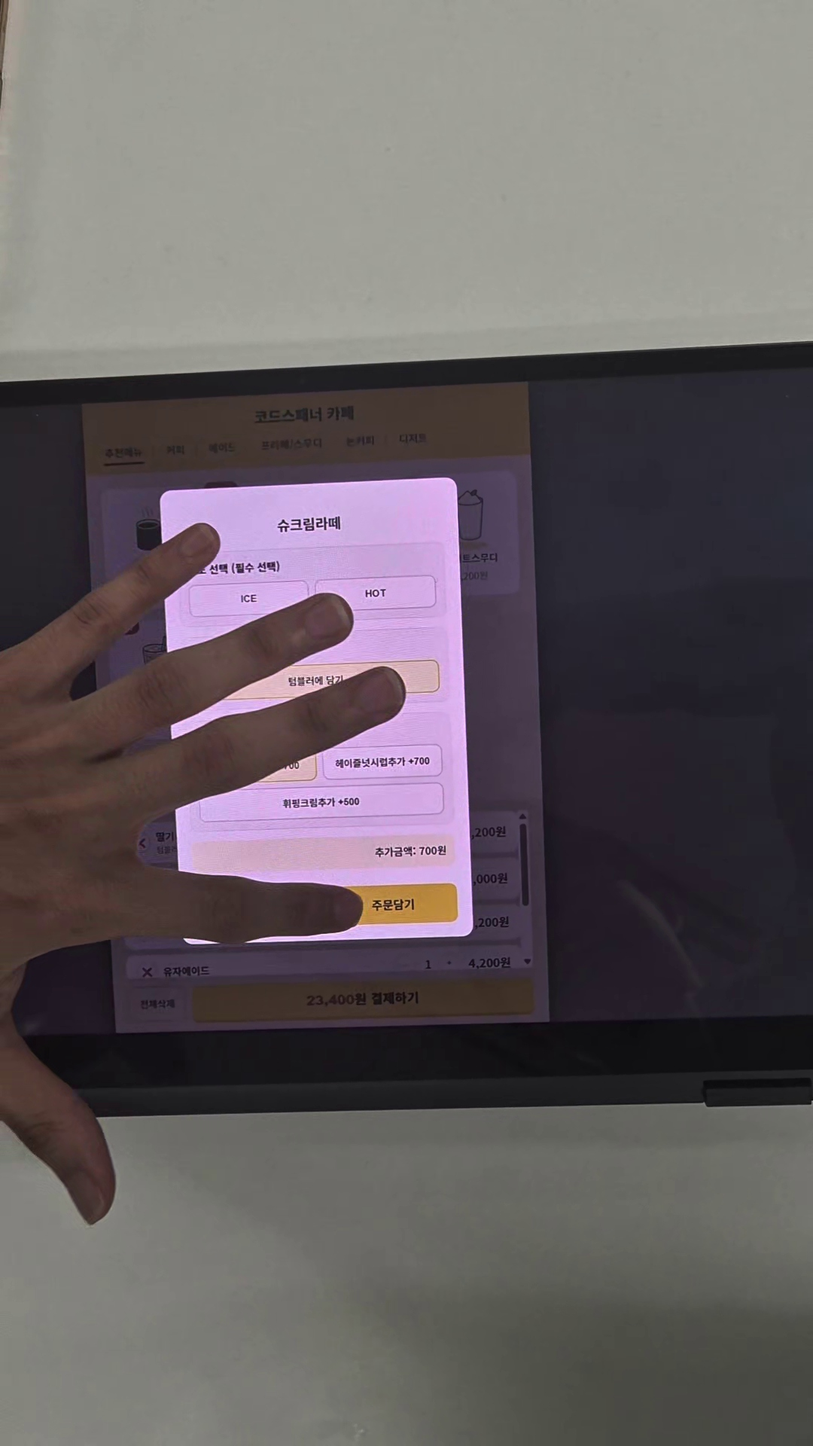action_button: (341, 884, 457, 927)
option_button: (197, 660, 440, 706), (199, 781, 445, 822), (190, 579, 311, 618), (317, 576, 439, 613), (323, 745, 441, 779)
popup_modal: (158, 475, 473, 944)
